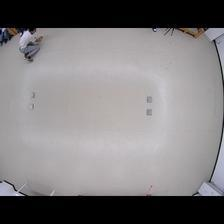fall: (14, 27, 44, 64)
